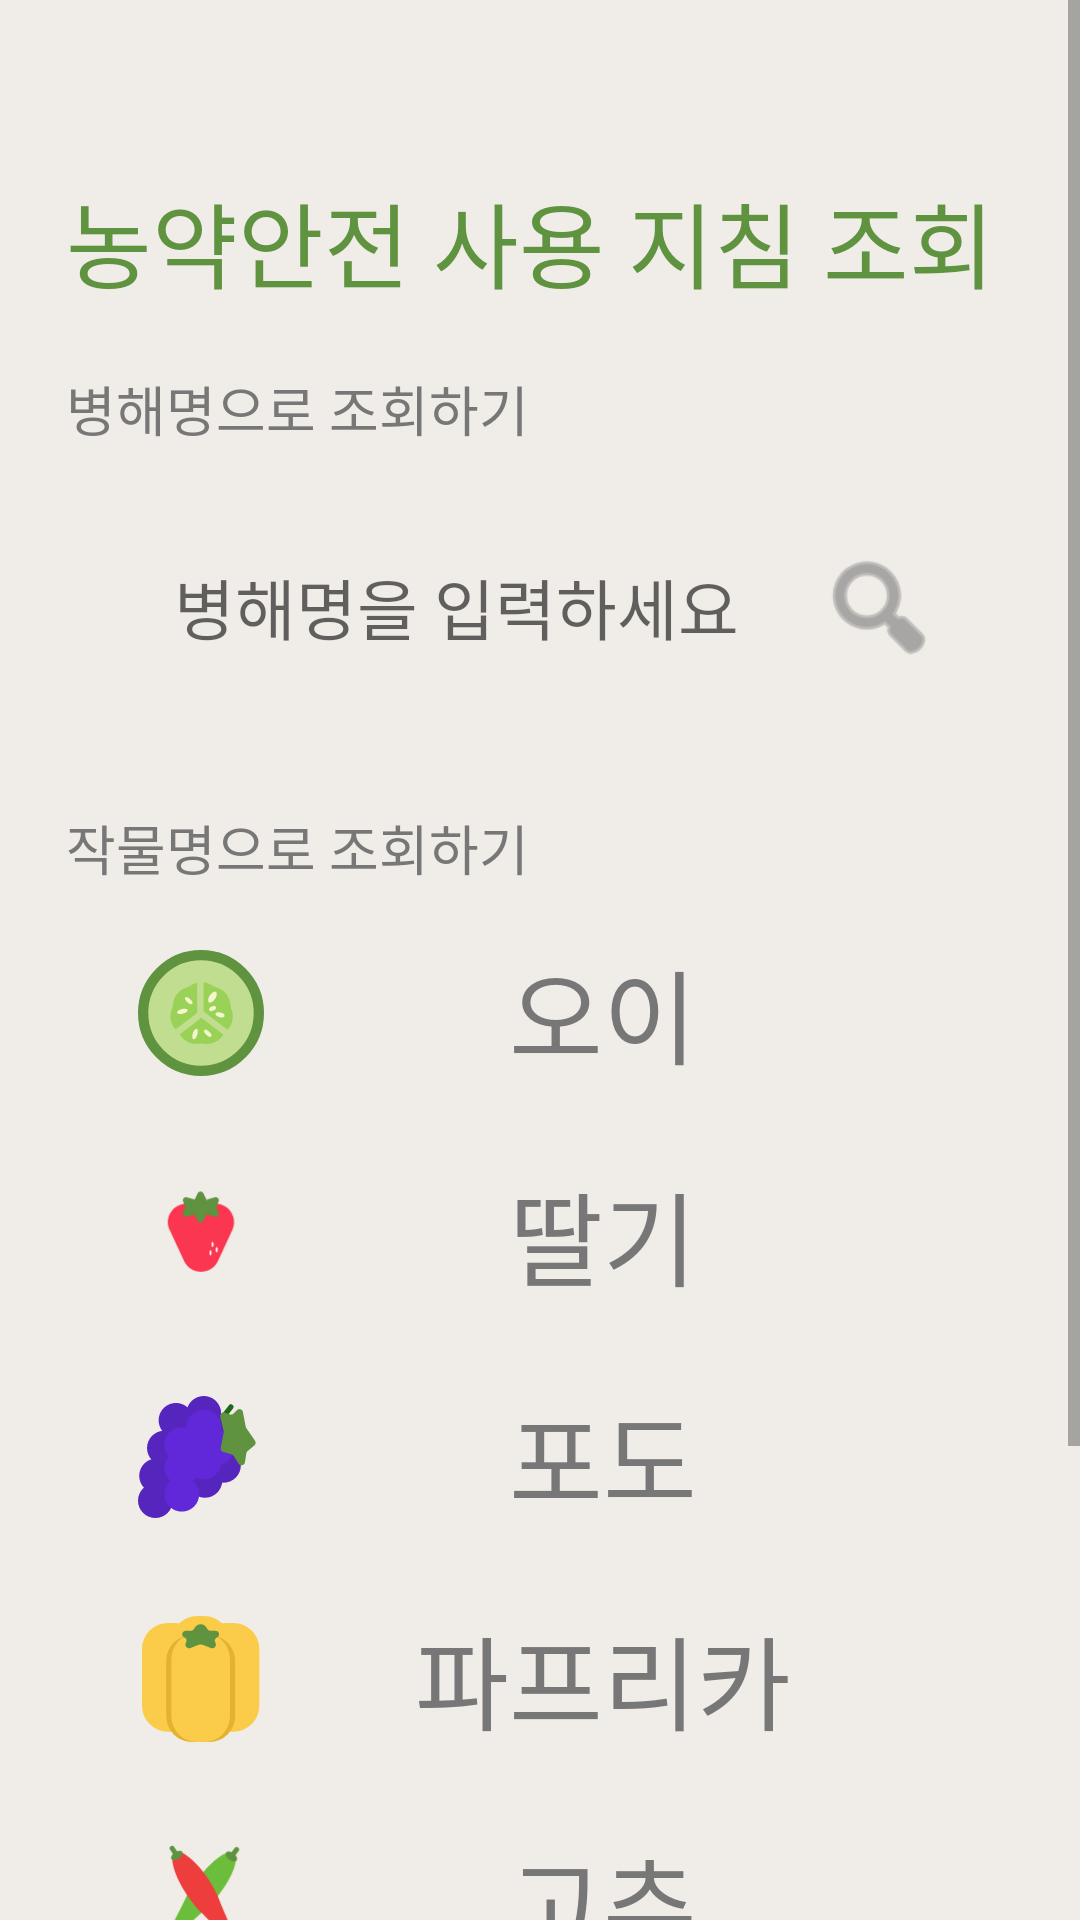

Where icons sit on this 1080px x 1920px app screen, as (x1, y1, x2, y2):
cucumber: (138, 950, 264, 1076)
grape: (138, 1396, 256, 1518)
paprika: (142, 1616, 260, 1742)
search: (833, 561, 925, 654)
strawberry: (167, 1191, 235, 1272)
